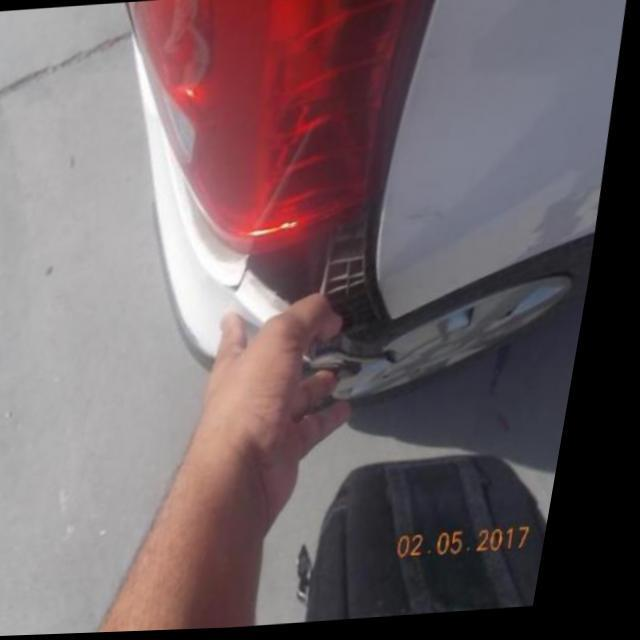dislocated part: (257, 210, 415, 366)
